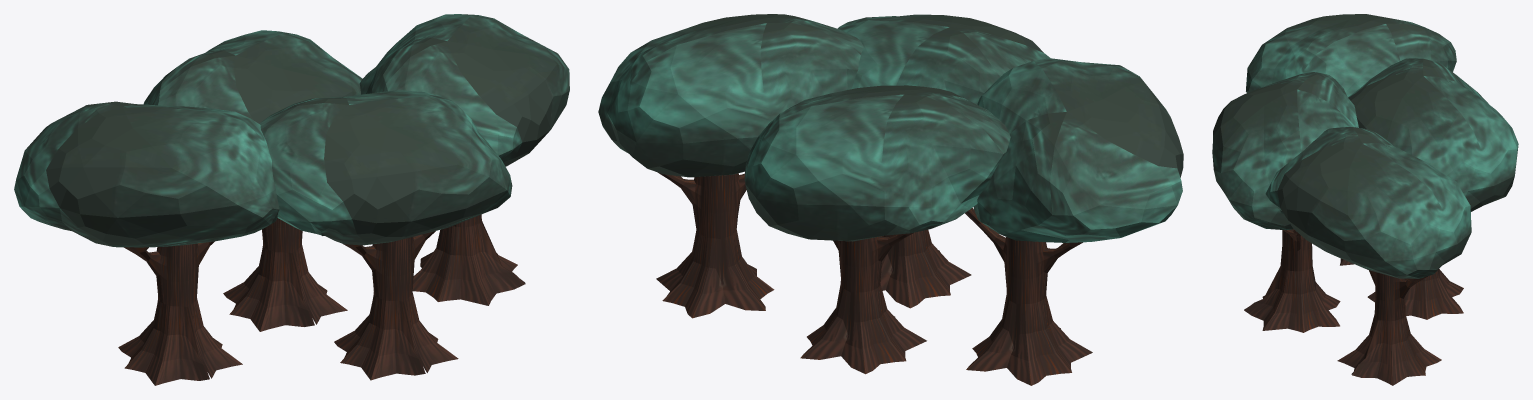
File: Trees Multiple.fbx
3 renders of one model, left to right at view 1: azimuth 30°, elevation 25°; view 2: azimuth 150°, elevation 25°; view 3: azimuth 270°, elevation 25°, orthographic. The views are drawn at different scales.
Parts seen in each view (by area): view 1: Icosphere, Icosphere.003, Icosphere.002, Icosphere.001, Cylinder, Cylinder.003, Cylinder.001, Cylinder.002; view 2: Icosphere.001, Icosphere, Icosphere.002, Icosphere.003, Cylinder, Cylinder.002, Cylinder.001, Cylinder.003; view 3: Icosphere.002, Icosphere.001, Icosphere.003, Icosphere, Cylinder.002, Cylinder.003, Cylinder.001.
Part boxes in pixels (<box>): Icosphere: <box>14,101,279,247</box>; Icosphere.003: <box>259,90,512,245</box>; Icosphere.002: <box>359,14,569,166</box>; Icosphere.001: <box>143,30,362,123</box>; Cylinder: <box>118,241,242,385</box>; Cylinder.003: <box>334,231,458,380</box>; Cylinder.001: <box>223,218,347,331</box>; Cylinder.002: <box>412,214,525,305</box>; Icosphere.001: <box>744,85,1010,241</box>; Icosphere: <box>973,58,1183,242</box>; Icosphere.002: <box>598,14,863,177</box>; Icosphere.003: <box>837,14,1050,104</box>; Cylinder: <box>965,208,1092,385</box>; Cylinder.002: <box>656,172,774,318</box>; Cylinder.001: <box>800,232,926,374</box>; Cylinder.003: <box>880,229,971,308</box>; Icosphere.002: <box>1265,127,1471,278</box>; Icosphere.001: <box>1348,58,1518,211</box>; Icosphere.003: <box>1212,72,1358,230</box>; Icosphere: <box>1246,14,1456,96</box>; Cylinder.002: <box>1337,270,1441,385</box>; Cylinder.003: <box>1244,229,1340,332</box>; Cylinder.001: <box>1367,269,1463,319</box>.
Size of the model in its own units: 3275 by 1505 by 1984.
